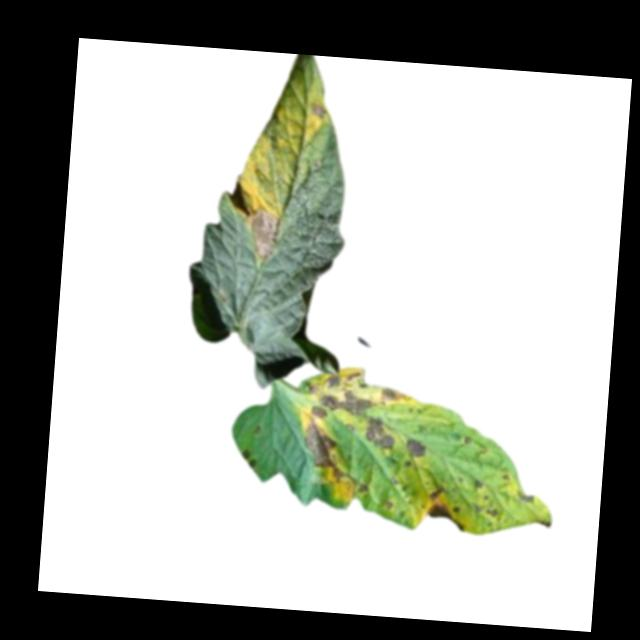Early_blight: (305, 362, 410, 427), (298, 420, 350, 484), (423, 486, 467, 532), (245, 210, 284, 261), (359, 420, 396, 453), (404, 437, 426, 461), (472, 505, 498, 521), (304, 101, 327, 118), (240, 450, 256, 469), (517, 491, 536, 505), (471, 479, 484, 493), (357, 483, 367, 495)
